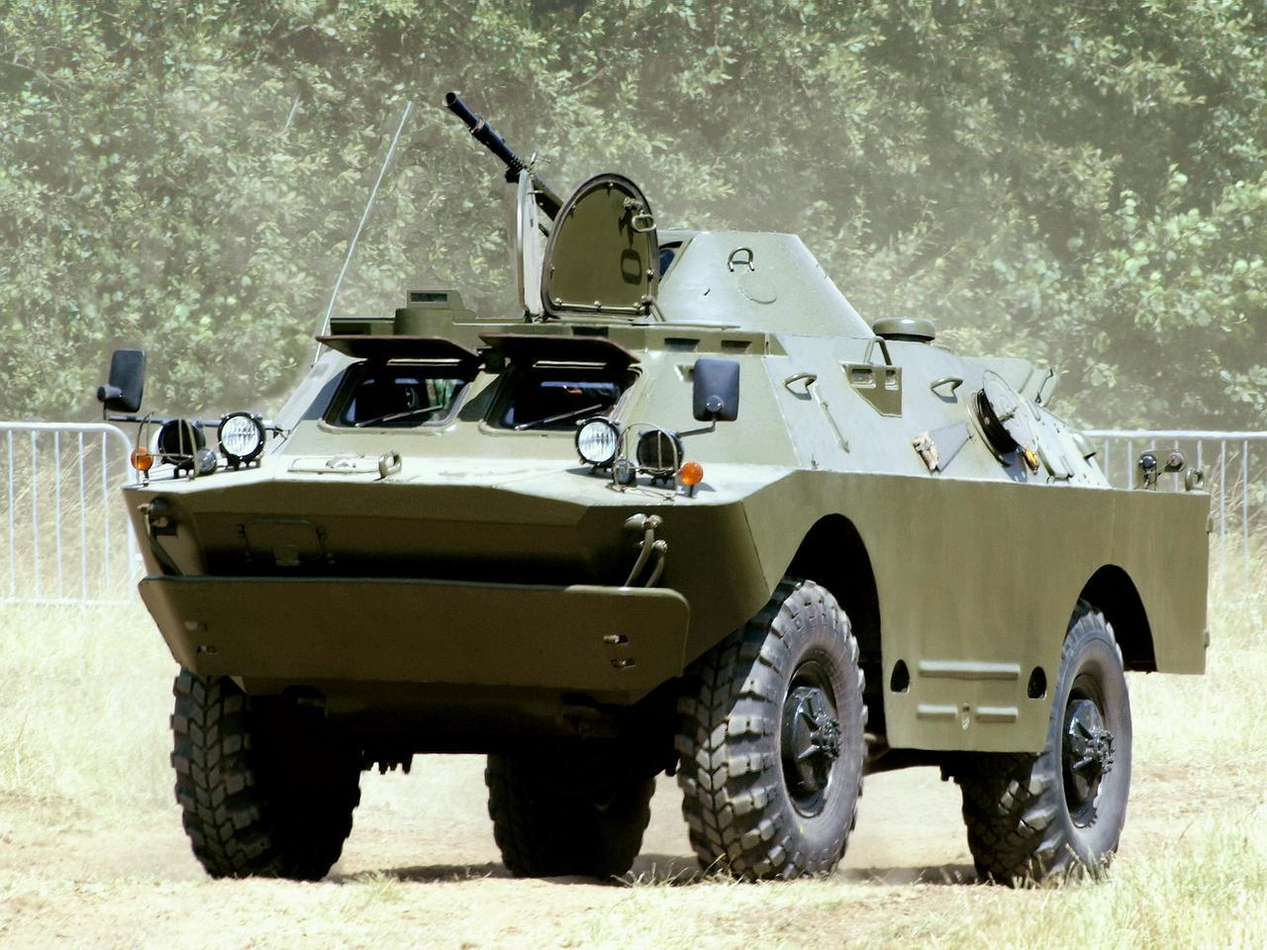tank: (91, 82, 1237, 904)
